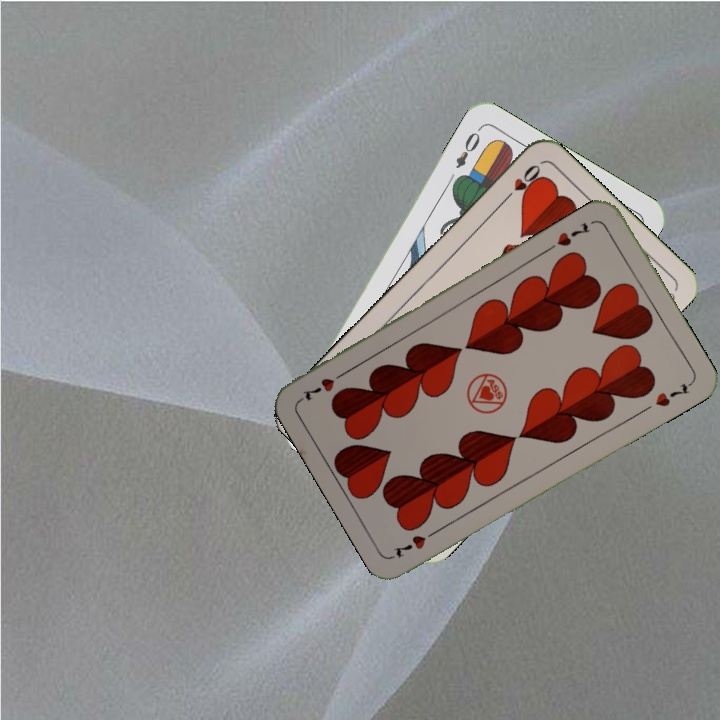EO: (451, 123, 484, 171)
H7: (390, 524, 443, 561), (552, 218, 594, 249)
HO: (498, 160, 544, 206)
